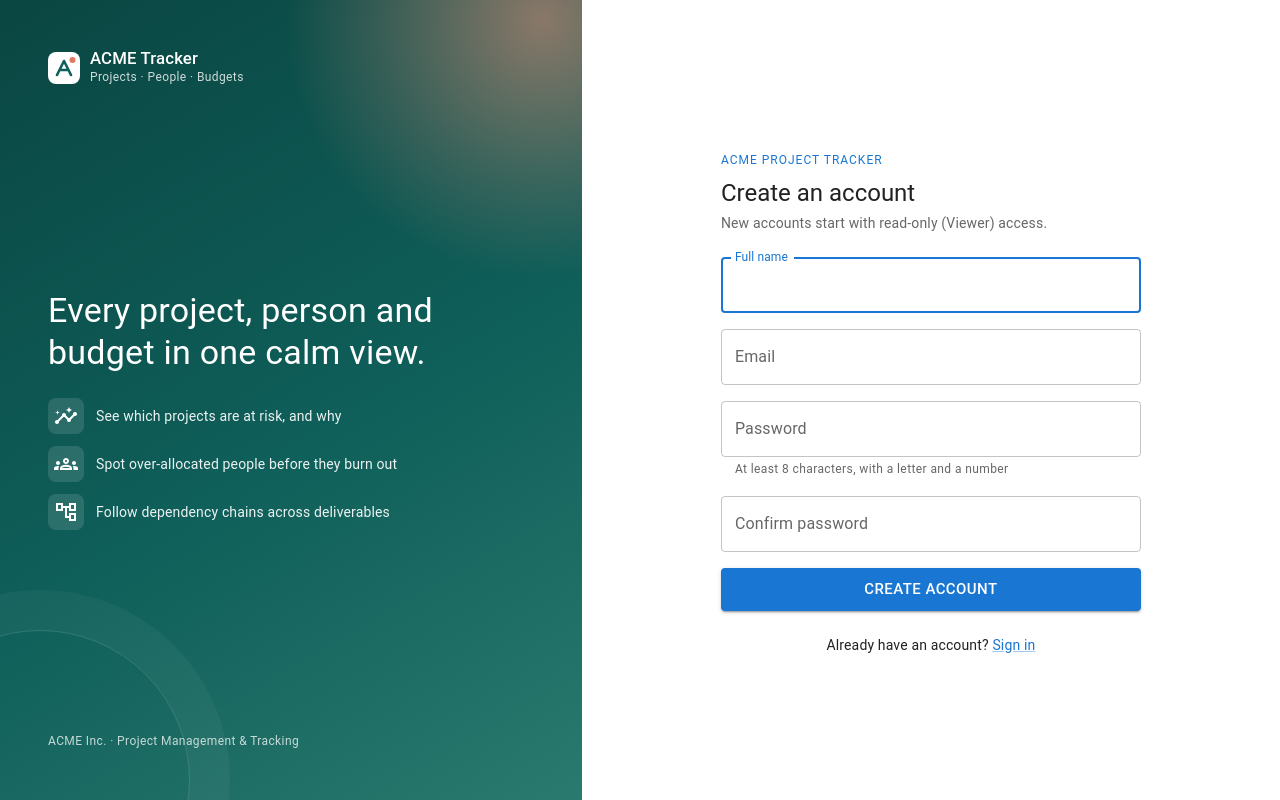
shows inline errors for empty required fields
Click the button "Create account".
click(931, 589)  # box [721,568,1141,611]
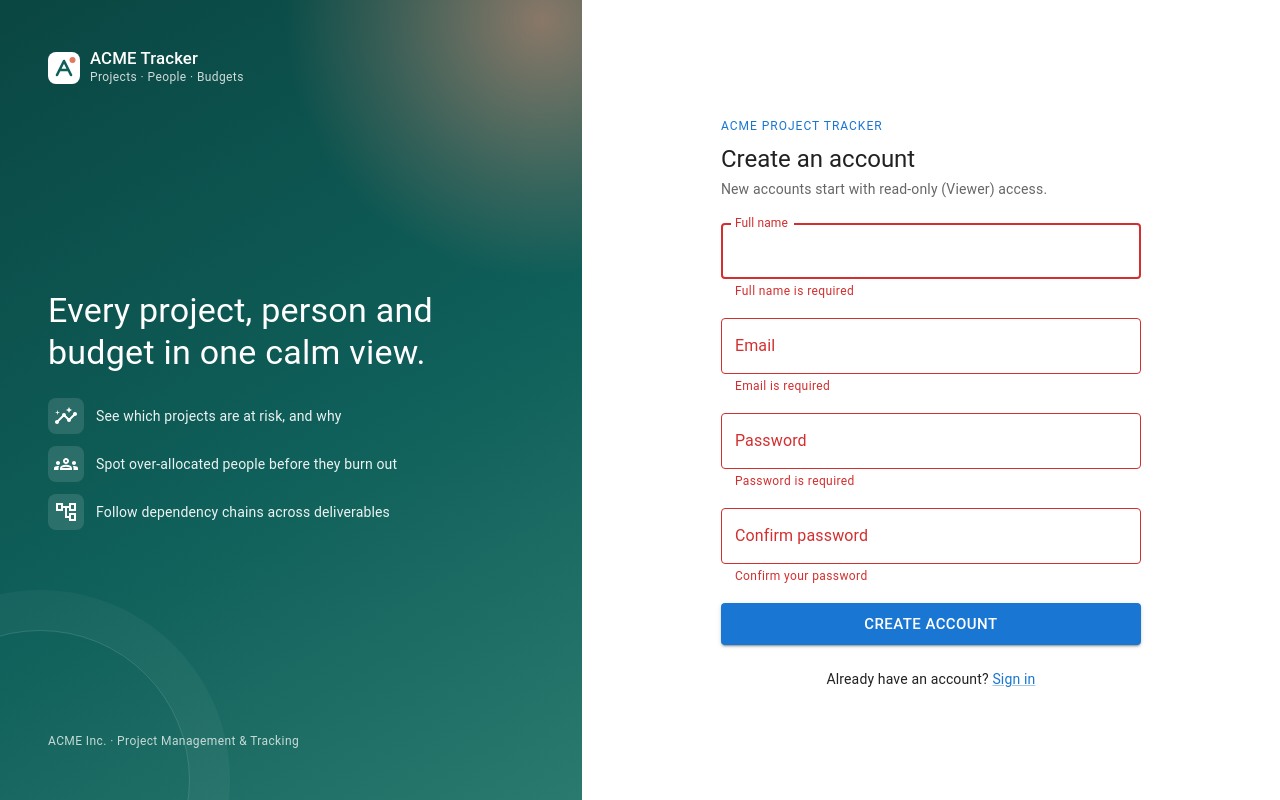
Now the text "Full name is required" is shown, box [735,284,854,298]
Now the text "Email is required" is shown, box [735,379,830,393]
Now the text "Password is required" is shown, box [735,474,855,488]
